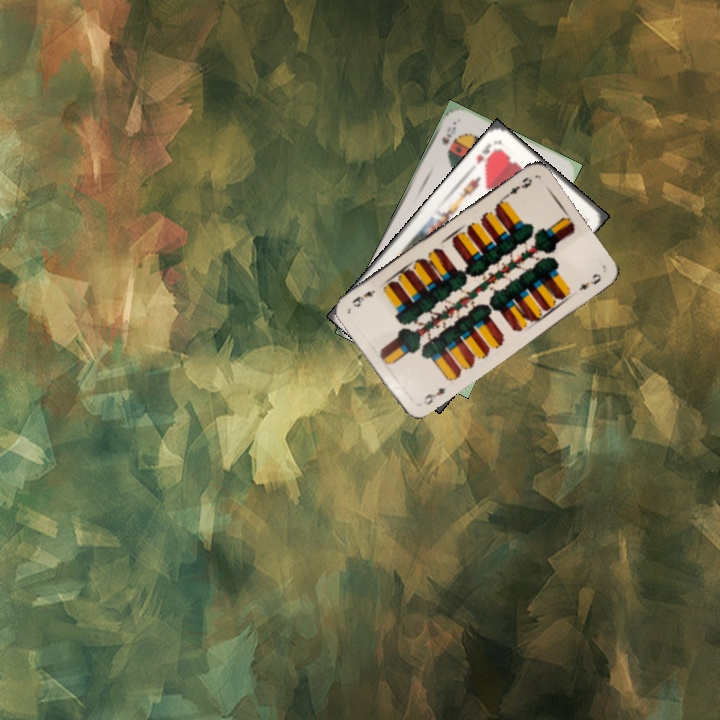E9: (500, 173, 535, 201), (420, 383, 448, 407)
HK: (472, 139, 494, 167)
SO: (438, 123, 459, 147)
